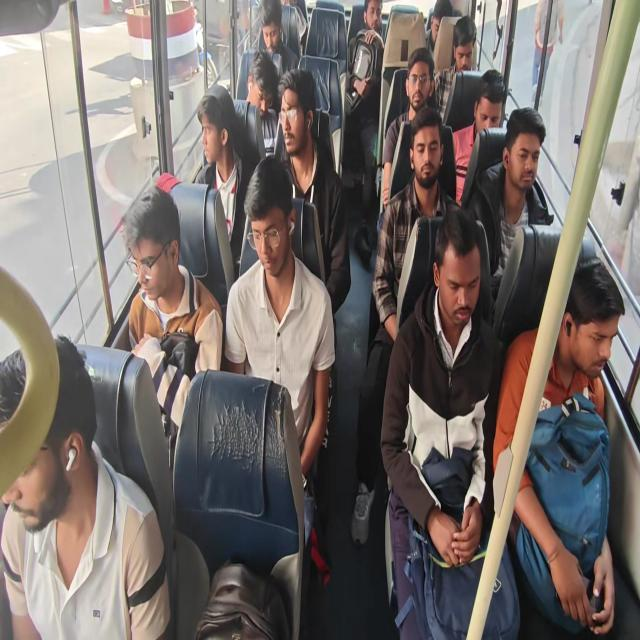person: (380, 206, 521, 638), (0, 333, 171, 639), (493, 256, 625, 636), (350, 105, 461, 546), (223, 155, 336, 488), (120, 185, 223, 464), (276, 67, 351, 317), (466, 106, 554, 306), (192, 83, 250, 279), (346, 0, 384, 263), (381, 46, 441, 210), (452, 68, 506, 204), (434, 15, 477, 121), (244, 49, 280, 158), (531, 0, 564, 106), (256, 0, 298, 78), (425, 0, 452, 56), (354, 0, 384, 49)
